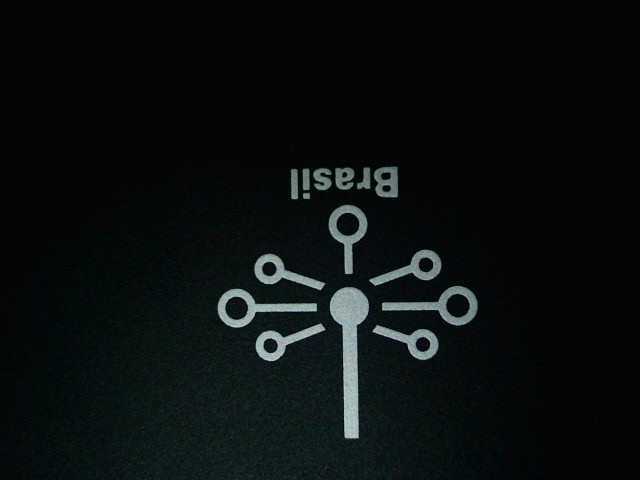BG_Brasil: (176, 138, 494, 446)
